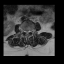CCS_stenosis: (26, 29, 28, 35)
LFS_normal: (30, 28, 32, 33)
LLS_normal: (28, 28, 30, 34)
RFS_normal: (23, 28, 24, 33)
RLS_normal: (24, 29, 26, 34)
